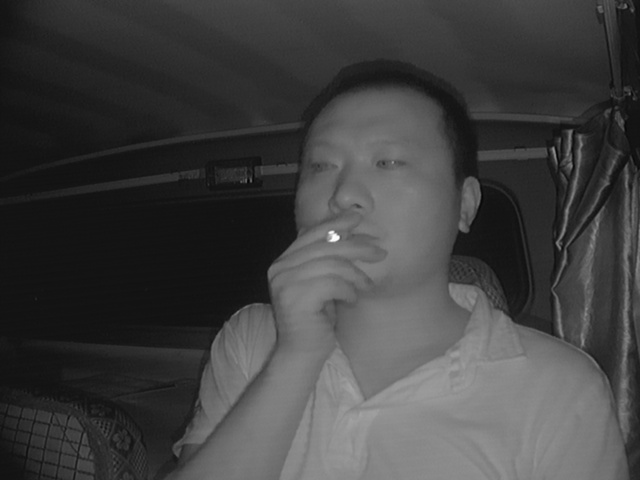hand: (286, 208, 381, 315)
